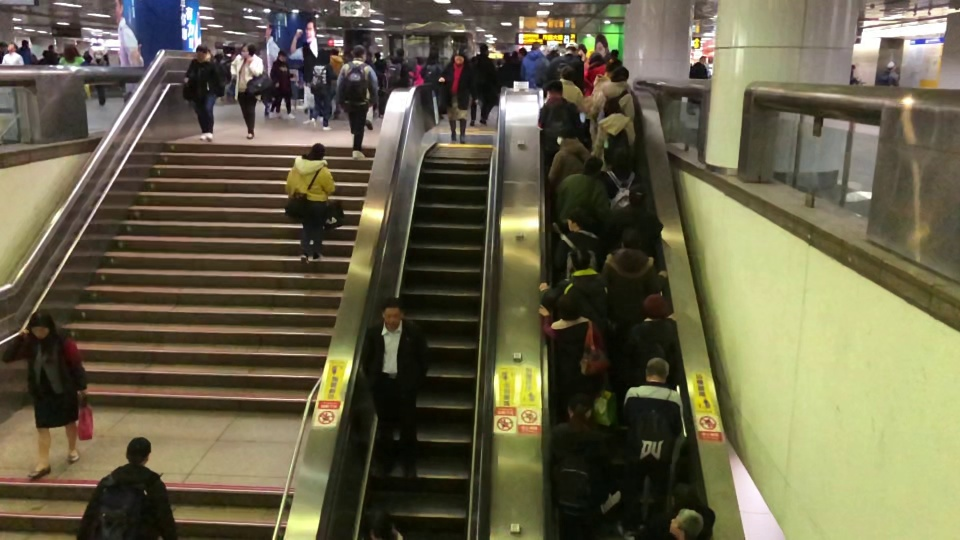person_head: (668, 506, 705, 540), (361, 507, 396, 540), (626, 179, 653, 215), (565, 391, 593, 424), (28, 309, 55, 340), (641, 293, 670, 321), (554, 292, 582, 321), (565, 206, 595, 233), (607, 141, 633, 172), (380, 297, 404, 329), (125, 436, 152, 464), (644, 357, 670, 384), (567, 246, 592, 271), (620, 227, 642, 251), (582, 155, 603, 177), (554, 124, 577, 144), (602, 96, 622, 117), (547, 80, 564, 102), (307, 142, 326, 161), (610, 64, 629, 83), (559, 64, 577, 84), (604, 58, 622, 77), (239, 42, 256, 59), (587, 52, 604, 69), (351, 44, 367, 62), (451, 47, 466, 66), (315, 50, 331, 66), (563, 40, 579, 56), (195, 45, 208, 61), (62, 45, 76, 59), (428, 46, 440, 61), (478, 42, 489, 57), (585, 49, 595, 65), (6, 41, 18, 54), (302, 46, 313, 58), (885, 60, 896, 72), (277, 49, 287, 62), (530, 41, 541, 52), (0, 41, 9, 53), (395, 46, 404, 58), (366, 48, 373, 63), (414, 56, 424, 66), (518, 47, 527, 58), (502, 51, 511, 62), (20, 38, 29, 48), (93, 50, 103, 59), (330, 47, 339, 56), (389, 55, 398, 64), (510, 50, 519, 59), (698, 54, 706, 64), (47, 44, 54, 53), (374, 51, 381, 60)
person_vbox: (0, 308, 88, 480), (359, 297, 430, 480), (615, 357, 684, 540), (596, 293, 682, 426), (73, 436, 177, 540), (548, 390, 615, 540), (537, 291, 609, 422), (600, 227, 668, 334), (283, 142, 336, 265), (538, 205, 604, 291), (598, 178, 664, 261), (540, 246, 609, 321), (335, 44, 378, 160), (586, 64, 636, 151), (553, 155, 613, 227), (537, 80, 581, 176), (181, 45, 222, 142), (437, 47, 478, 144), (598, 141, 650, 210), (590, 96, 636, 173), (229, 42, 263, 140), (546, 123, 591, 193), (533, 40, 584, 98), (467, 42, 499, 126), (267, 49, 297, 121), (310, 50, 336, 131), (543, 64, 585, 112), (586, 58, 623, 107), (421, 46, 445, 120), (519, 41, 551, 88), (378, 55, 402, 116), (685, 54, 708, 116), (300, 45, 317, 125), (363, 48, 378, 131), (89, 50, 109, 107), (584, 52, 606, 97), (499, 50, 522, 87), (1, 41, 25, 66), (395, 46, 409, 87), (57, 45, 84, 65), (408, 56, 424, 86), (330, 47, 344, 79), (17, 38, 32, 65), (583, 49, 595, 82), (39, 44, 58, 64), (885, 60, 899, 86), (373, 51, 386, 73), (0, 40, 10, 64)
